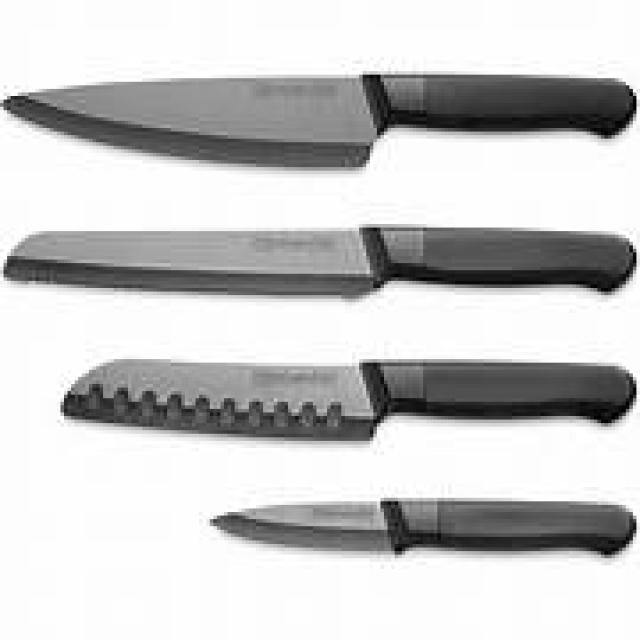Knife: (11, 75, 633, 164), (64, 359, 633, 437), (7, 228, 629, 292), (213, 501, 633, 551)
